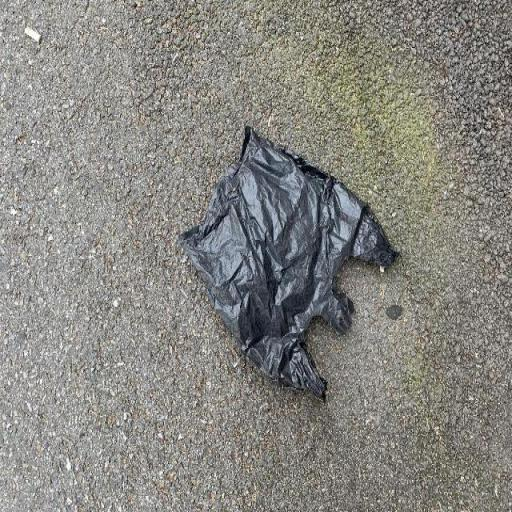plastic-bag: (174, 120, 400, 406)
